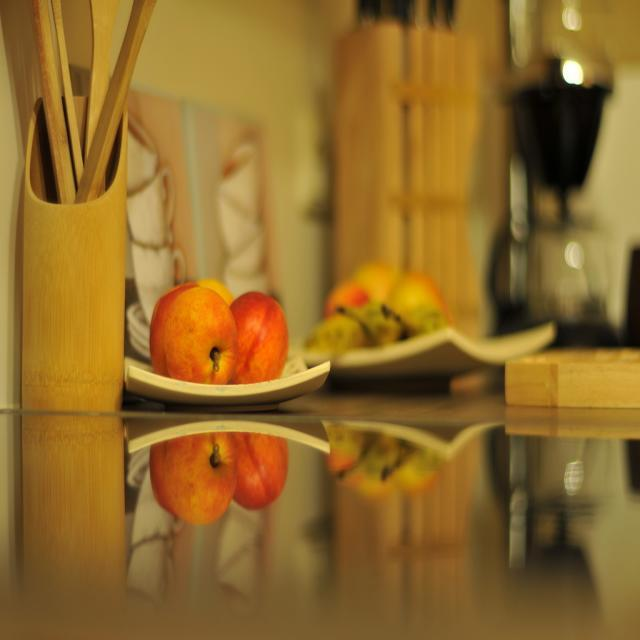Apple pie: (228, 294, 288, 384), (151, 282, 197, 377), (382, 268, 450, 324), (324, 278, 374, 314), (352, 263, 394, 303), (195, 277, 233, 308)
